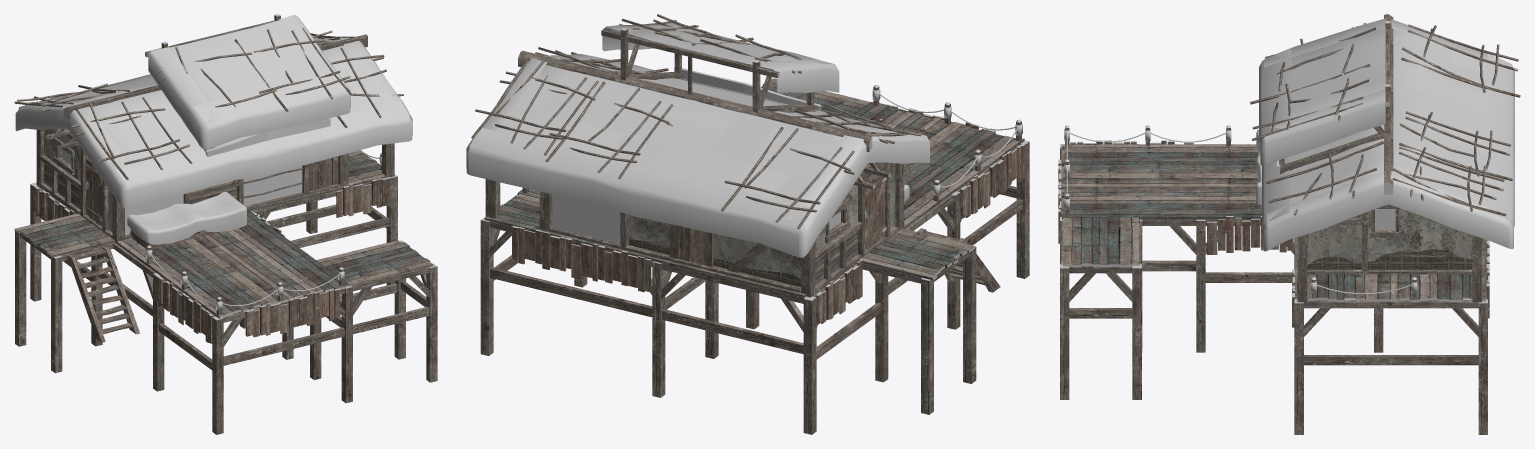
The model's file is House6.fbx.
The picture shows the model from 3 angles, left to right: view 1: azimuth 30°, elevation 25°; view 2: azimuth 150°, elevation 25°; view 3: azimuth 270°, elevation 25°; orthographic projection. The views are drawn at different scales.
Visible parts, largest first — view 1: Base, Stairs, Doors; view 2: Base, Doors, Stairs; view 3: Base.
Part boxes in pixels (box(x1,y1,x2,y2)): Base: box(14, 14, 437, 434); Stairs: box(67, 246, 140, 342); Doors: box(84, 158, 102, 225); Base: box(466, 14, 1029, 434); Doors: box(865, 170, 886, 249); Stairs: box(917, 228, 1000, 292); Base: box(1058, 14, 1520, 434).
Size of the model in its own units: 14.84 by 10.61 by 14.58.
